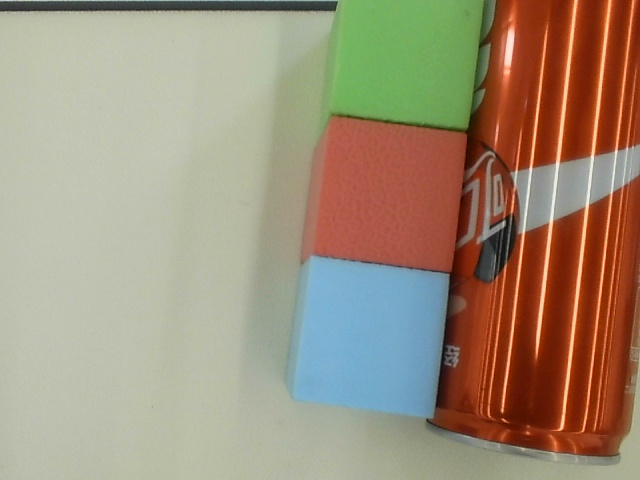bluecube: (281, 254, 449, 425)
cola: (420, 1, 640, 470)
greencube: (314, 1, 478, 133)
redcube: (299, 113, 470, 276)
